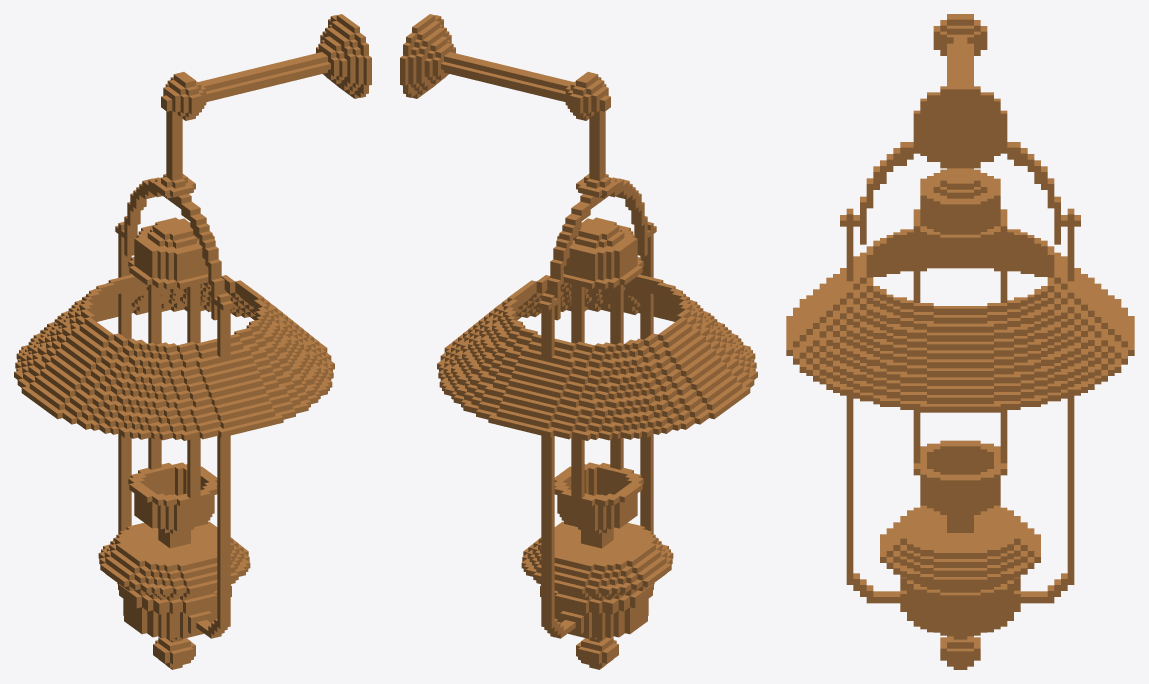
File: lampe_mural-1.obj
3 renders of one model, left to right at view 1: azimuth 30°, elevation 25°; view 2: azimuth 150°, elevation 25°; view 3: azimuth 270°, elevation 25°, orthographic. The views are drawn at different scales.
Size of the model in its own units: 6 by 11.1 by 5.2.
Materials: 1 (1 with a texture image).
